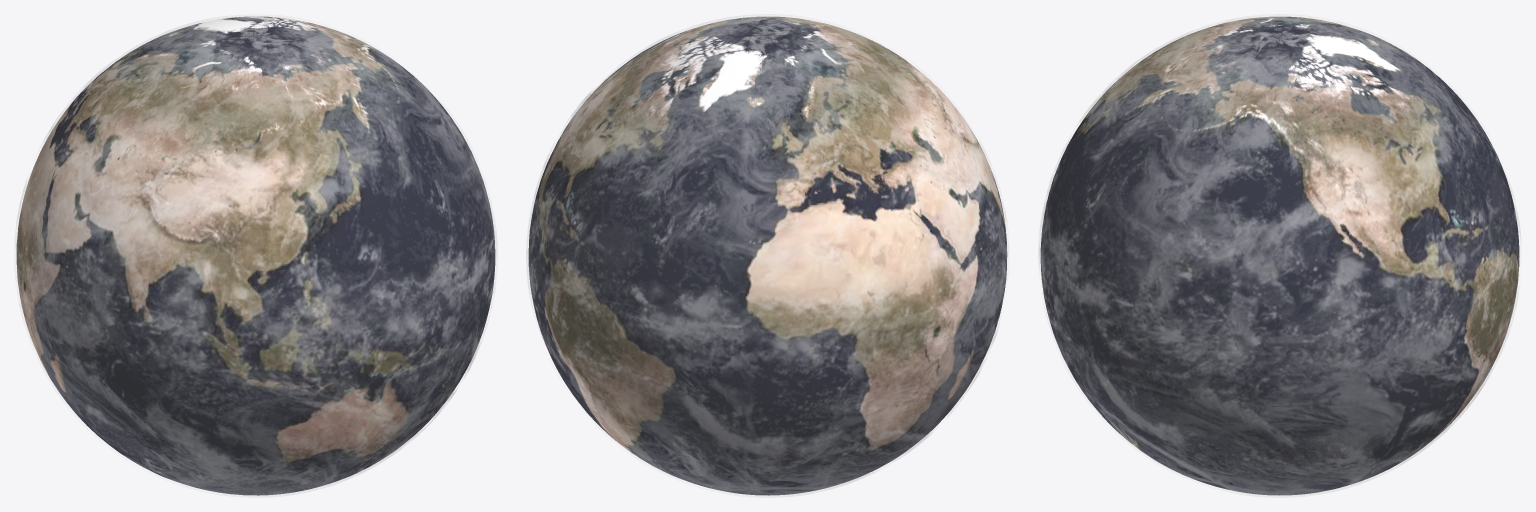
Rendered from planet-transformed.glb.
The picture shows the model from 3 angles, left to right: view 1: azimuth 30°, elevation 25°; view 2: azimuth 150°, elevation 25°; view 3: azimuth 270°, elevation 25°; orthographic projection.
Parts seen in each view (by area): view 1: Earth_Diffuse_6K, Earth_Diffuse_6K.001; view 2: Earth_Diffuse_6K, Earth_Diffuse_6K.001; view 3: Earth_Diffuse_6K, Earth_Diffuse_6K.001.
Boxes of the visible parts, x1,y1,x2,y2 form: Earth_Diffuse_6K: (16,16,495,495); Earth_Diffuse_6K.001: (14,14,497,497); Earth_Diffuse_6K: (528,16,1007,495); Earth_Diffuse_6K.001: (526,14,1009,497); Earth_Diffuse_6K: (1040,16,1519,495); Earth_Diffuse_6K.001: (1038,14,1521,497).
Bounding box in the file's own units: 275 × 275 × 275.
Materials: 2 (2 with a texture image).
